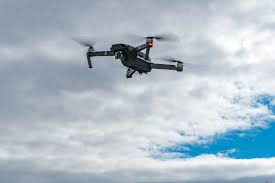Drone: (65, 30, 197, 86)
